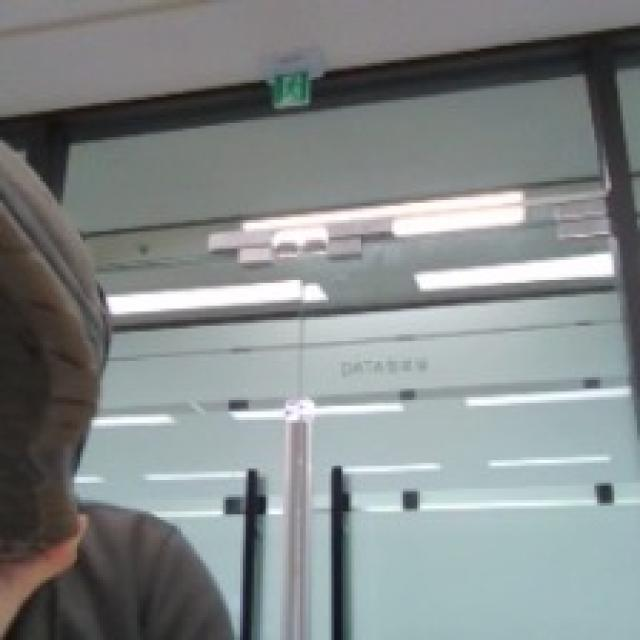shoe: (0, 119, 125, 565)
